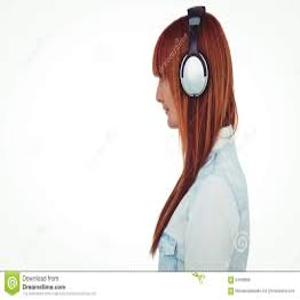Headphones: (176, 4, 213, 99)
